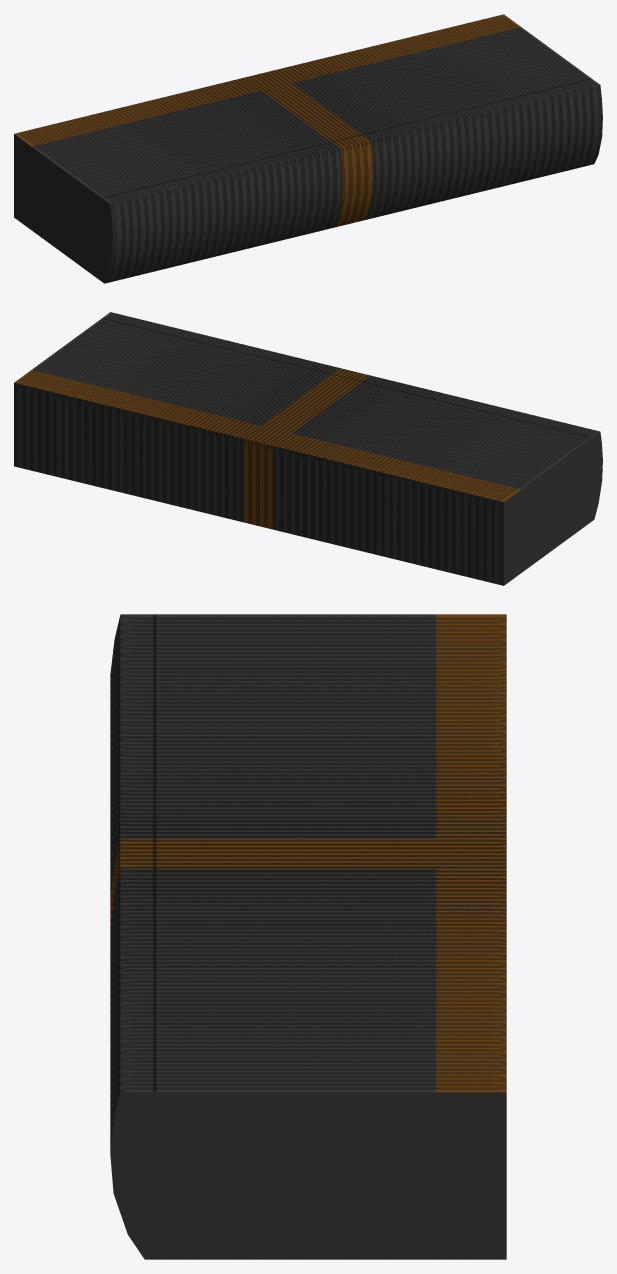
File: Escalator.FBX
The picture shows the model from 3 angles, top to bottom: view 1: azimuth 30°, elevation 25°; view 2: azimuth 150°, elevation 25°; view 3: azimuth 270°, elevation 25°; orthographic projection. The views are drawn at different scales.
Parts seen in each view (by area): view 1: Box328; view 2: Box328; view 3: Box328.
Part boxes in pixels (bbox=[...]): Box328: bbox=[14, 14, 602, 283]; Box328: bbox=[14, 312, 602, 585]; Box328: bbox=[110, 614, 506, 1259].
Bounding box in the file's own units: 1100 × 180 × 386.
